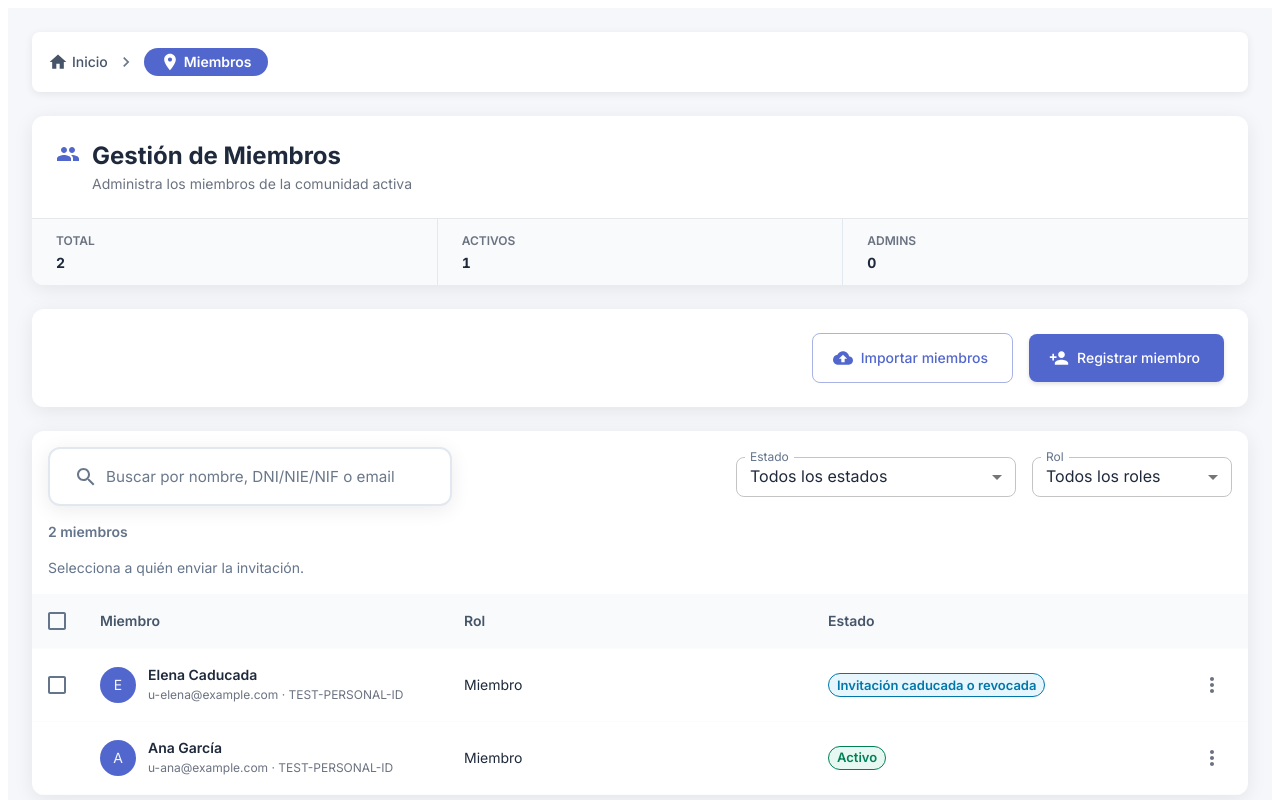
invitation refusals › UI-MBR-014 refetches the roster after a resend to a member whose invitation is gone, and shows its new state
Expected: the text "Ana García" is shown, [148,739,222,756]
Step 1. Click the button named "Más acciones para Elena Caducada" → click(1212, 685), box [1195,668,1229,702]
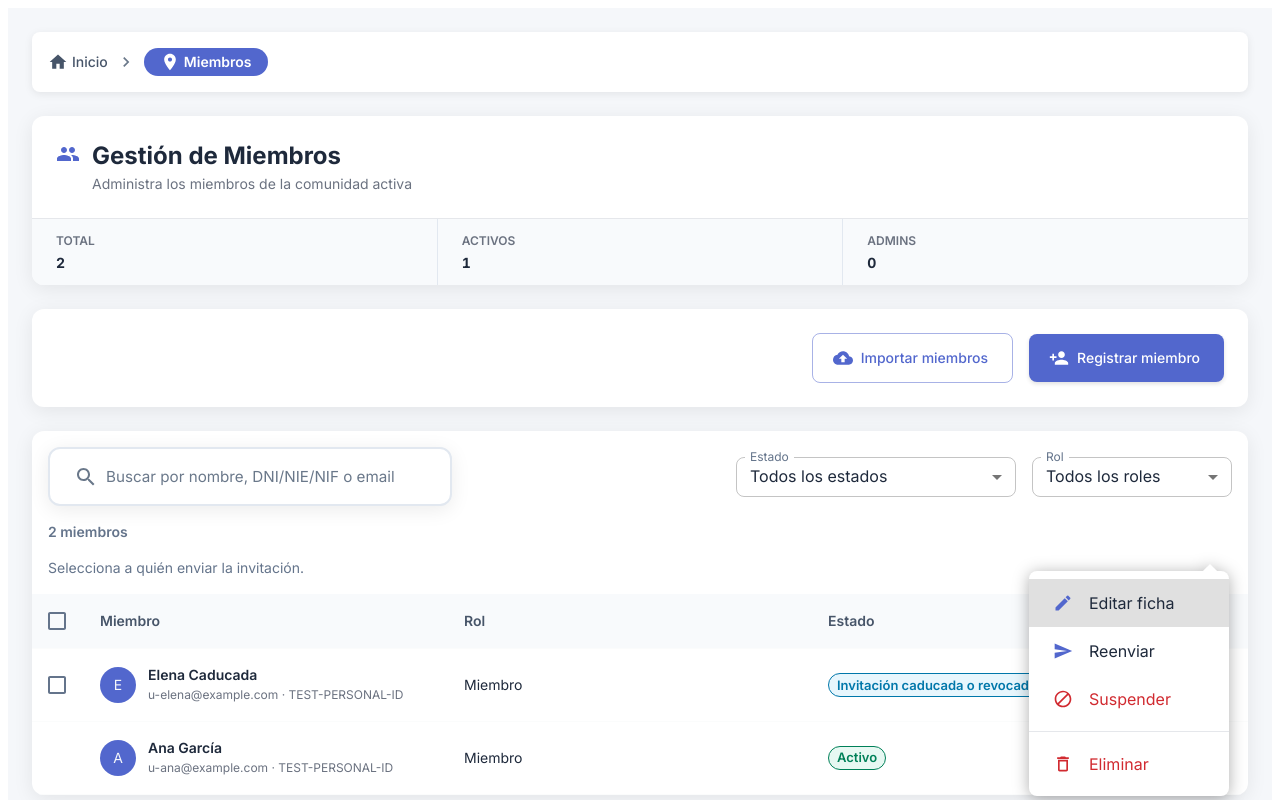
Step 2. Click the menu item "Reenviar" → click(1104, 651), box [1053,641,1155,661]
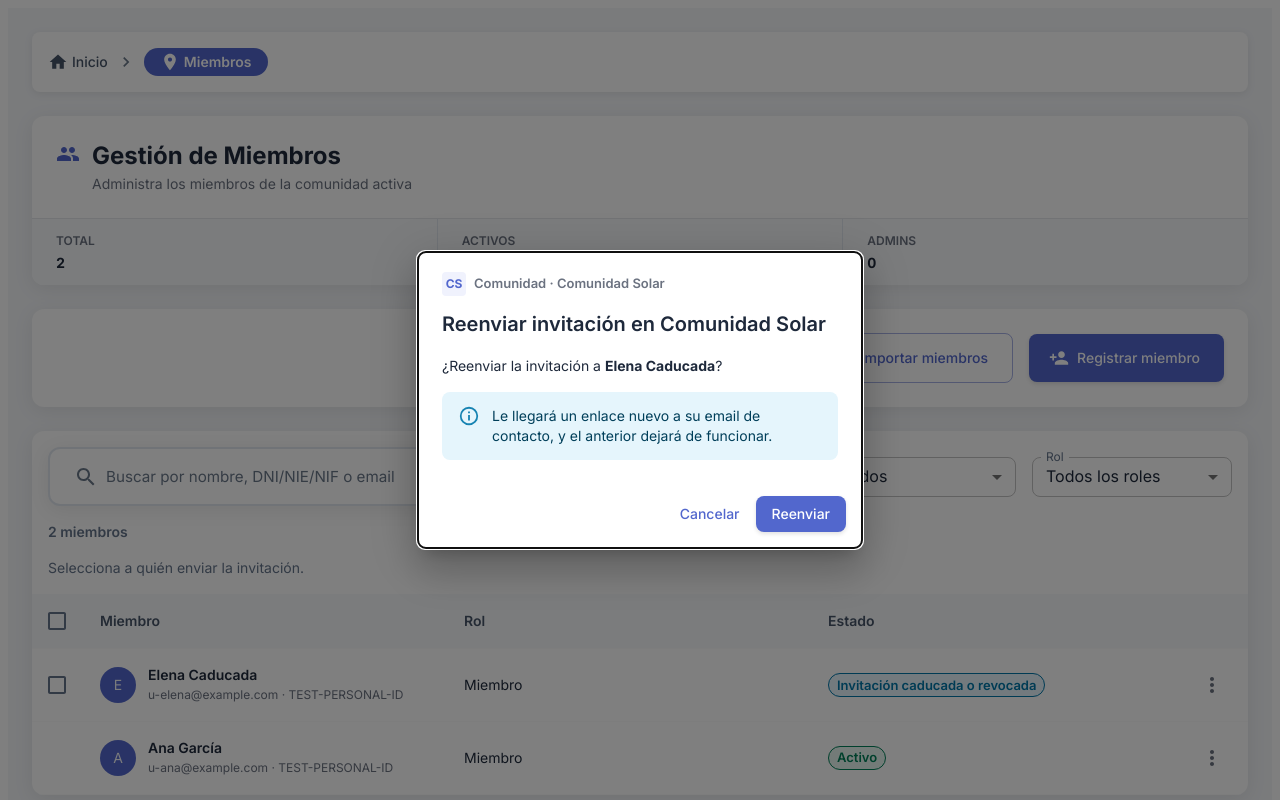
Step 3. Click the button "Reenviar" → click(801, 514), box [756,496,846,532]
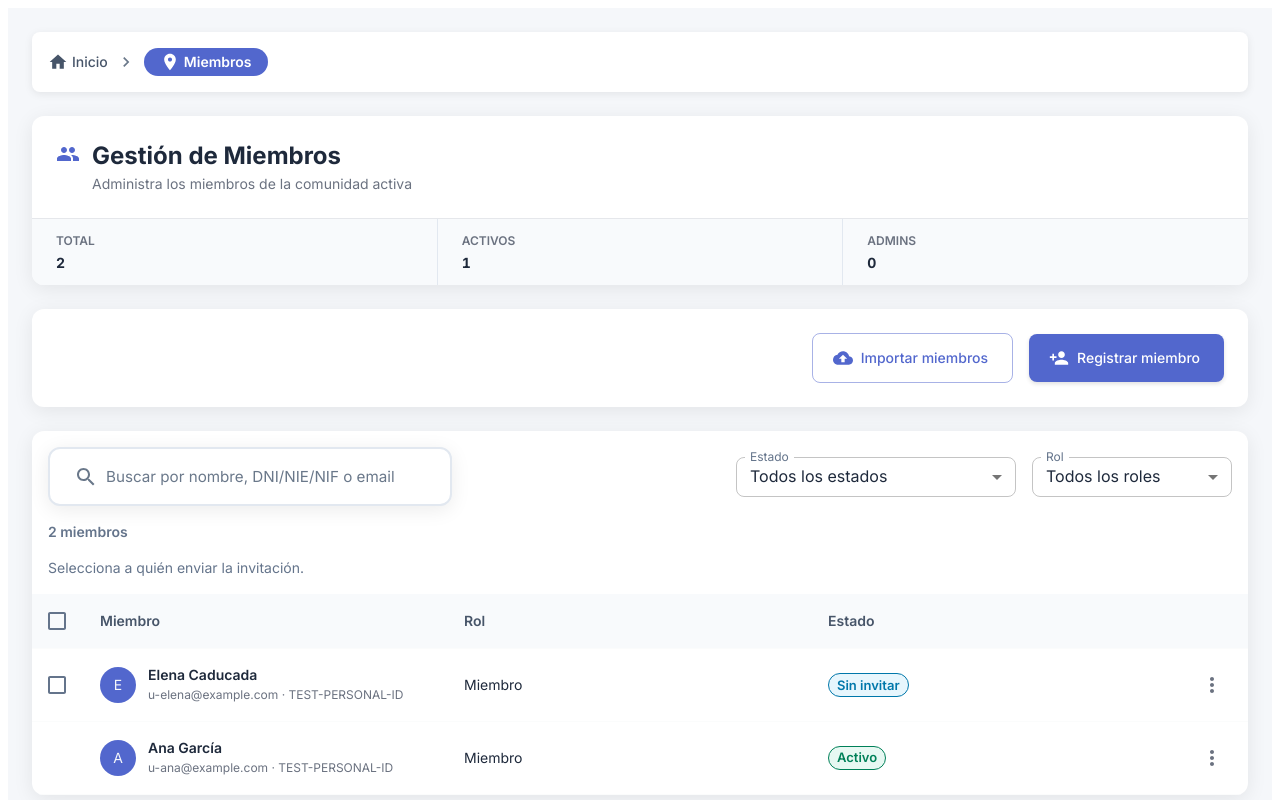
Expected: the dialog is gone
Expected: the text "Sin invitar" is shown, [837,676,900,692]
